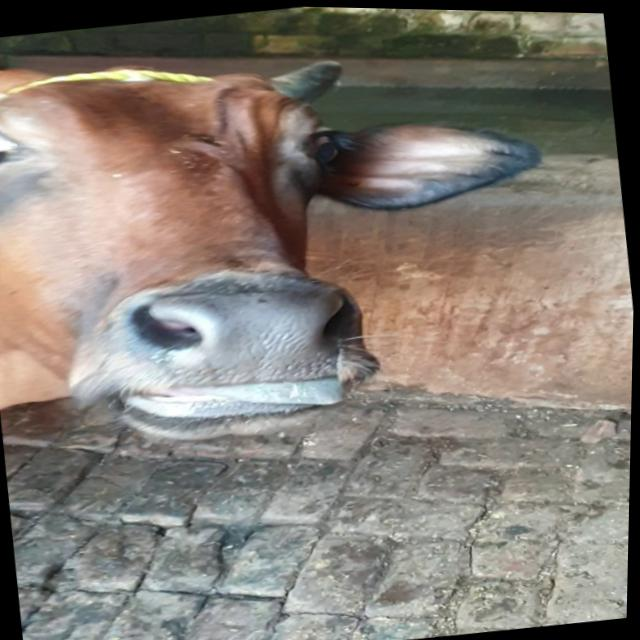cowFace: (0, 23, 451, 466)
